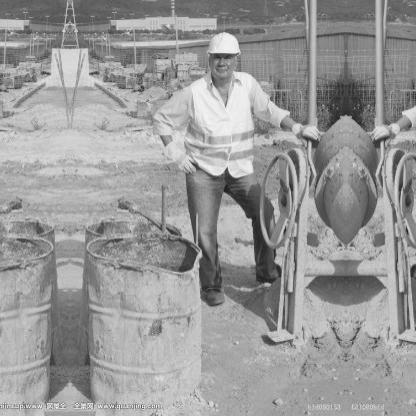helmet: (202, 28, 245, 83)
